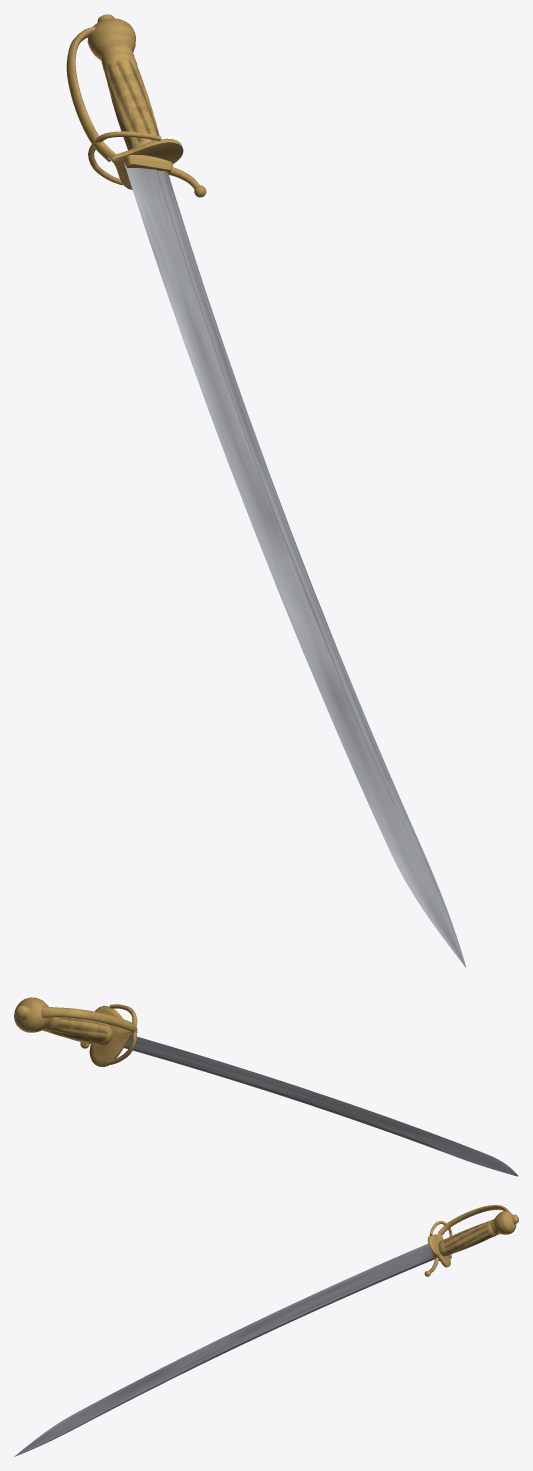
Rendered from grip_saber.glb.
3 renders of one model, top to bottom at view 1: azimuth 30°, elevation 25°; view 2: azimuth 150°, elevation 25°; view 3: azimuth 270°, elevation 25°, orthographic. The views are drawn at different scales.
Visible parts, largest first — view 1: Saber; view 2: Saber; view 3: Saber.
Part boxes in pixels (left/top/right/bottom): Saber: left=66, top=14, right=465, bottom=967; Saber: left=14, top=997, right=518, bottom=1176; Saber: left=14, top=1205, right=518, bottom=1456.
Bounding box in the file's own units: 0.1344 × 0.405 × 0.6668.
Materials: 2 (2 with a texture image).
